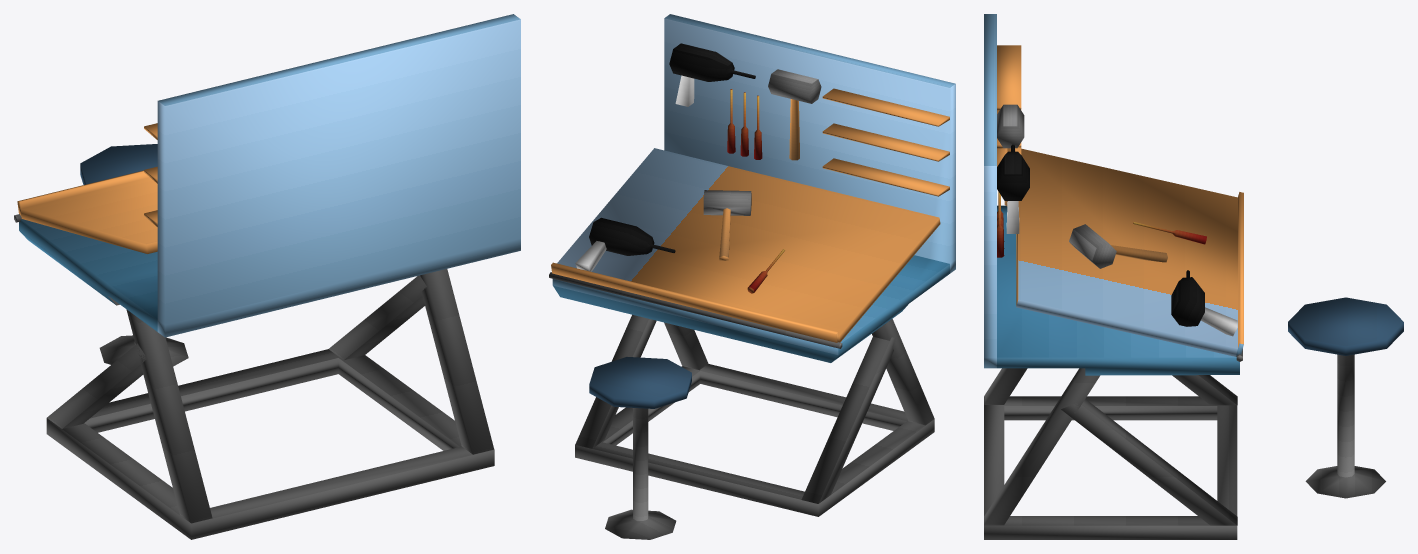
Rendered from Work bench.fbx.
3 renders of one model, left to right at view 1: azimuth 30°, elevation 25°; view 2: azimuth 150°, elevation 25°; view 3: azimuth 270°, elevation 25°, orthographic. The views are drawn at different scales.
Parts seen in each view (by area): view 1: Plane.006, Circle.016; view 2: Plane.006, Circle.016; view 3: Plane.006, Circle.016.
Boxes of the visible parts, <box> form: Plane.006: <box>14,14,520,539</box>; Circle.016: <box>80,144,188,366</box>; Plane.006: <box>549,14,955,516</box>; Circle.016: <box>589,357,691,539</box>; Plane.006: <box>984,14,1243,539</box>; Circle.016: <box>1288,297,1403,498</box>.
Bounding box in the file's own units: 142 × 167 × 164.
